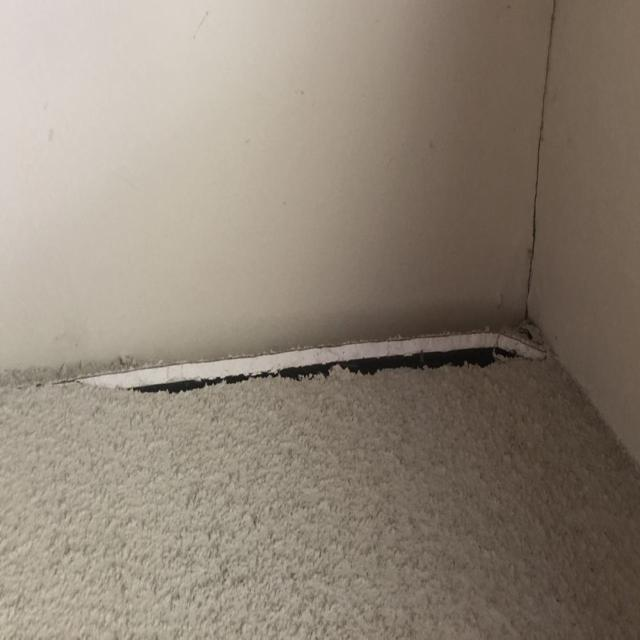leak: (40, 322, 550, 399), (526, 0, 559, 325)
